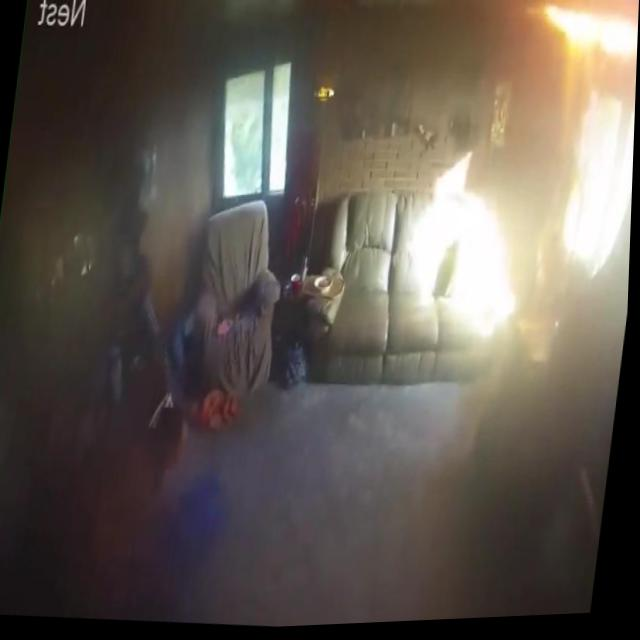fire: (539, 6, 639, 74)
